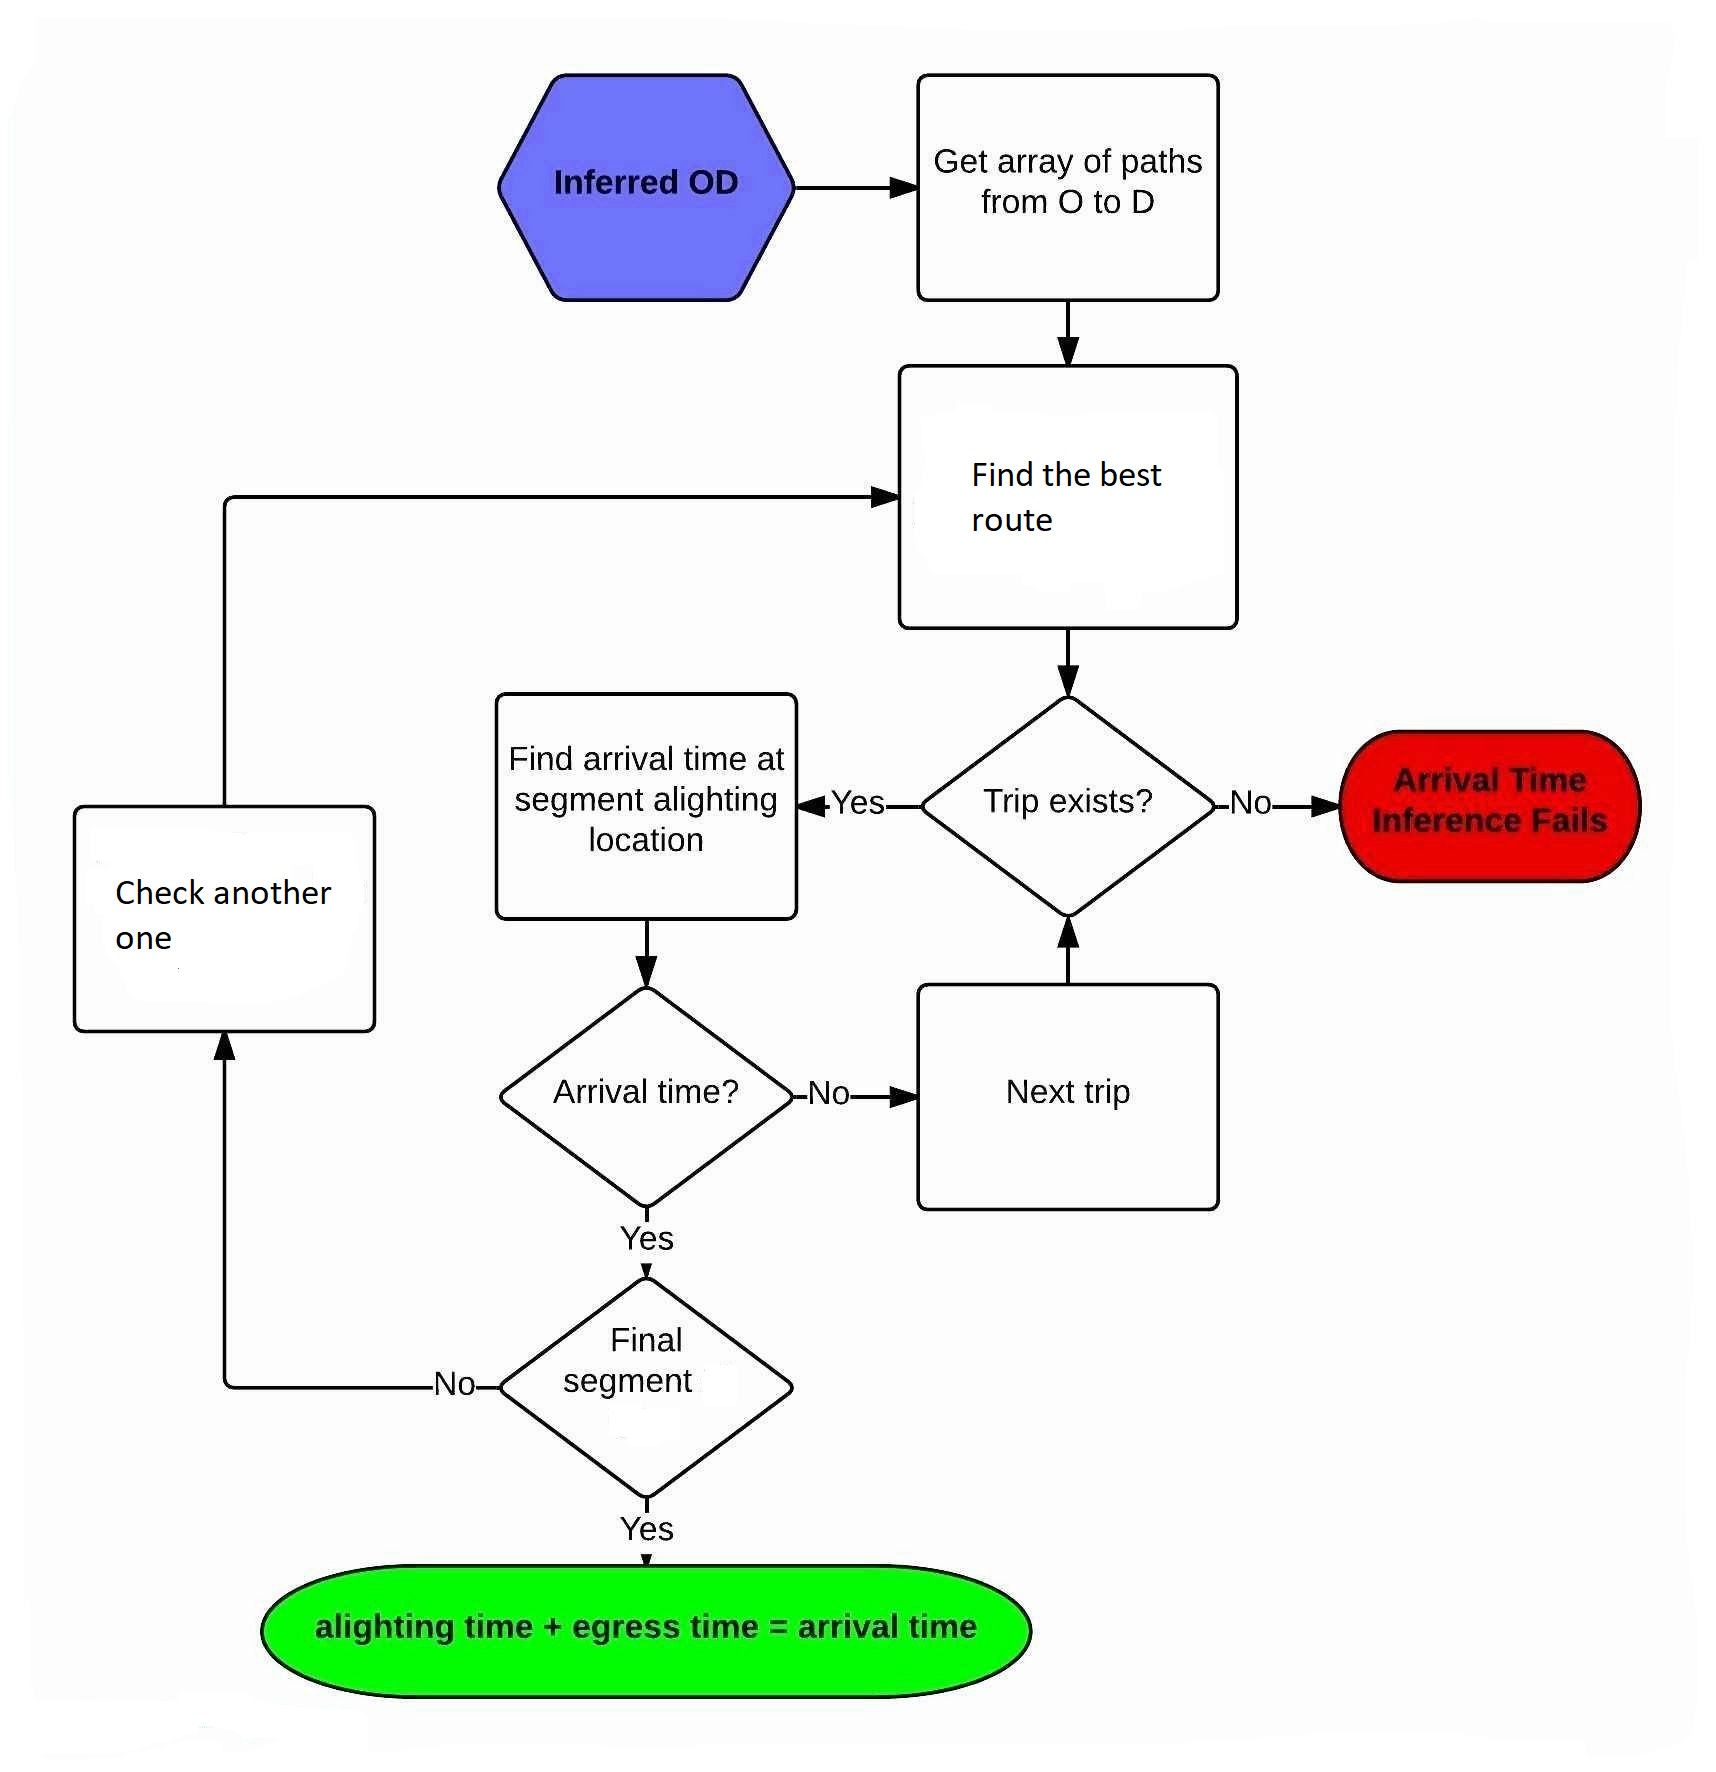arrow: (214, 476, 911, 815), (202, 1028, 500, 1399), (783, 1077, 920, 1123), (792, 786, 927, 826), (792, 169, 927, 206), (1224, 791, 1340, 823), (1045, 914, 1094, 986), (626, 1486, 664, 1569), (1049, 619, 1083, 702), (629, 918, 667, 994), (1053, 291, 1090, 359), (633, 1206, 664, 1277)
decision: (916, 688, 1227, 921), (493, 983, 811, 1210), (482, 1277, 797, 1498)
process: (889, 350, 1248, 638), (66, 796, 389, 1043), (911, 63, 1232, 310), (489, 62, 797, 315), (911, 978, 1235, 1218), (486, 687, 802, 929)
terminator: (251, 1558, 1045, 1707), (1332, 723, 1646, 894)
text: (500, 737, 786, 856), (308, 1604, 988, 1650), (927, 139, 1202, 215), (108, 867, 332, 956), (1365, 761, 1613, 840), (965, 448, 1170, 536), (557, 1321, 694, 1407), (547, 1070, 748, 1111), (547, 165, 743, 203), (977, 783, 1166, 823), (1000, 1073, 1140, 1115), (819, 777, 886, 821), (614, 1218, 682, 1256), (614, 1509, 682, 1547), (800, 1070, 854, 1112), (421, 1367, 486, 1399), (1224, 788, 1273, 821)
